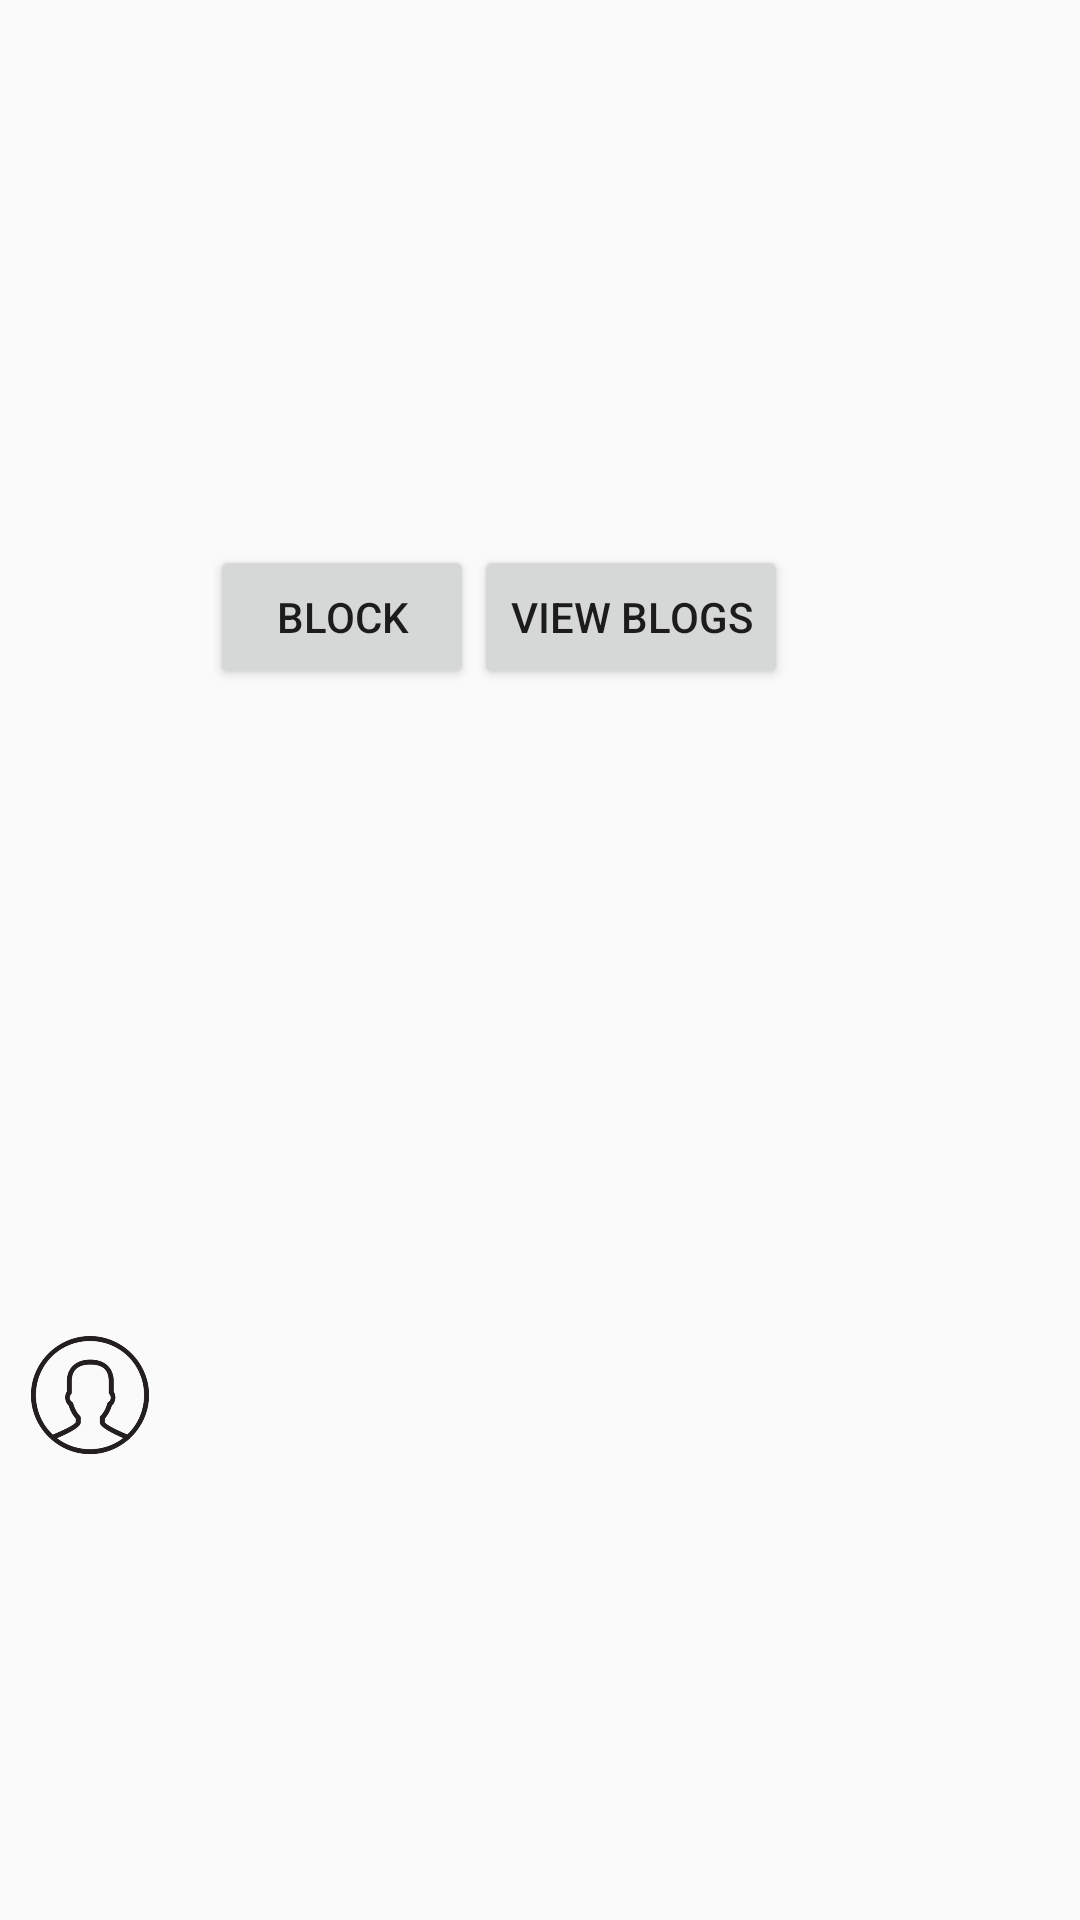

Named icons in this screenshot (1080 × 1920) and their centers, point (x, y):
profile: point (90, 1395)
